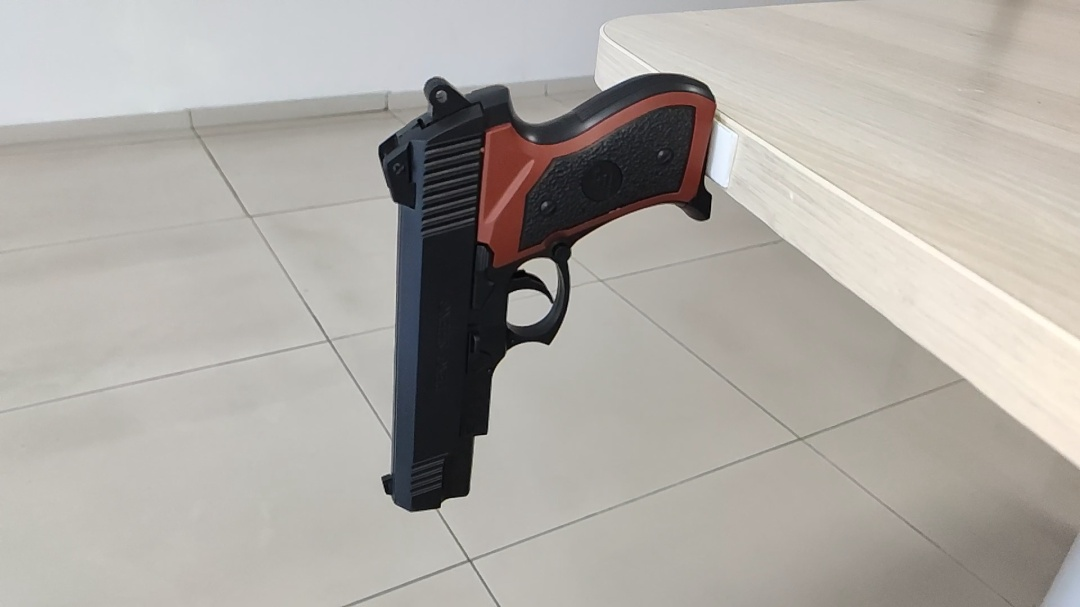gun: (375, 69, 717, 519)
